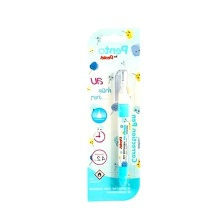book: (84, 24, 142, 203)
correction_fluid: (113, 66, 133, 188)
